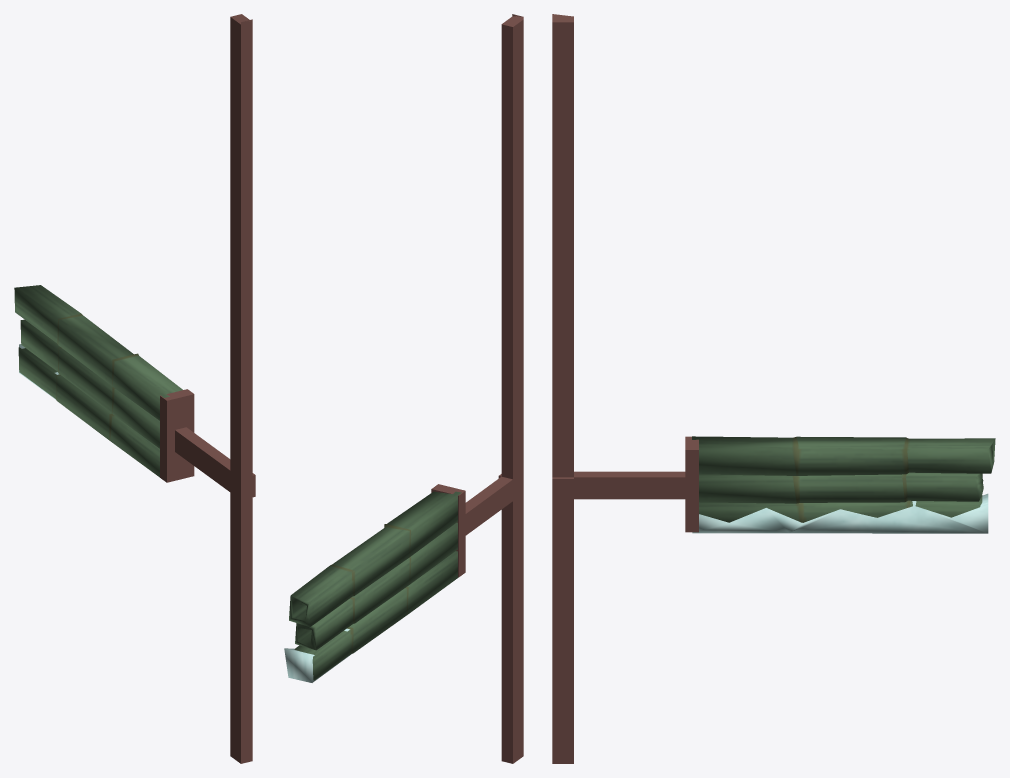
The model's file is bamboo_protectedT_left_3.glb.
The picture shows the model from 3 angles, left to right: view 1: azimuth 30°, elevation 25°; view 2: azimuth 150°, elevation 25°; view 3: azimuth 270°, elevation 25°; orthographic projection.
Visible parts, largest first — view 1: Stand.010, Obstacle.008; view 2: Stand.010, Obstacle.008; view 3: Obstacle.008, Stand.010.
Boxes of the visible parts, bbox=[...] form: Stand.010: bbox=[160, 14, 255, 763]; Obstacle.008: bbox=[14, 285, 182, 477]; Stand.010: bbox=[431, 14, 523, 763]; Obstacle.008: bbox=[284, 491, 461, 682]; Obstacle.008: bbox=[692, 436, 995, 533]; Stand.010: bbox=[552, 14, 698, 763].
Bounding box in the file's own units: 0.2437 × 5.55 × 2.99.
Materials: 2 (1 with a texture image).
